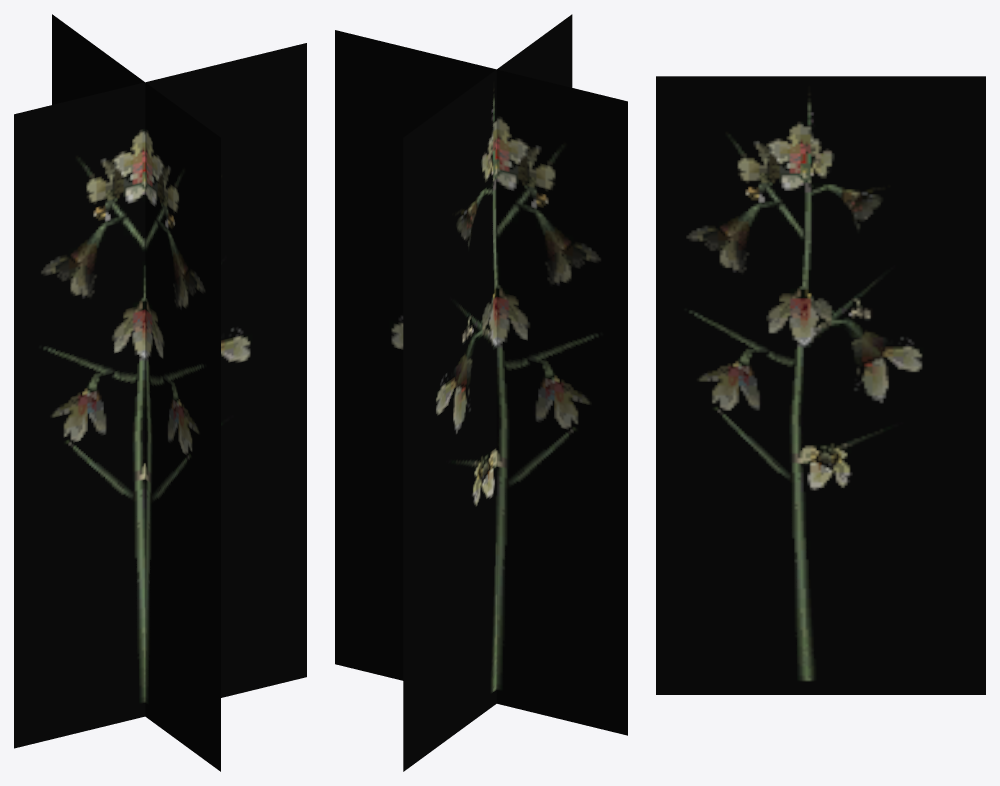
File: flow_catalpaflower_l2.fbx
The picture shows the model from 3 angles, left to right: view 1: azimuth 30°, elevation 25°; view 2: azimuth 150°, elevation 25°; view 3: azimuth 270°, elevation 25°; orthographic projection. The views are drawn at different scales.
Parts seen in each view (by area): view 1: mesh_node; view 2: mesh_node; view 3: mesh_node.
Boxes of the visible parts, x1=… form: mesh_node: x1=14, y1=14, x2=306, y2=771; mesh_node: x1=335, y1=14, x2=627, y2=771; mesh_node: x1=656, y1=76, x2=985, y2=694.
Size of the model in its own units: 0.2972 by 0.6153 by 0.2972.
1 material, 1 textured.
